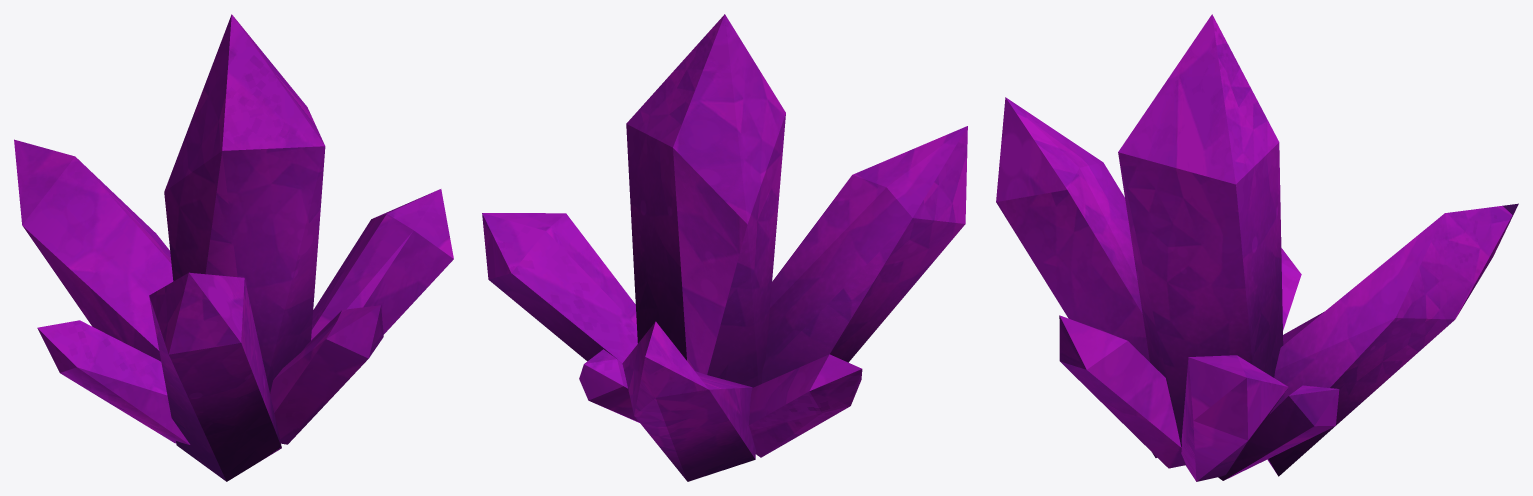
File: P_CLUSTER CRYSTAL.fbx
3 views of the same model, side by side, from view 1: azimuth 30°, elevation 25°; view 2: azimuth 150°, elevation 25°; view 3: azimuth 270°, elevation 25° (orthographic). The views are drawn at different scales.
Visible parts, largest first — view 1: Cluster Crystal_1; view 2: Cluster Crystal_1; view 3: Cluster Crystal_1.
Boxes of the visible parts, x1,y1,x2,y2 form: Cluster Crystal_1: (14, 14, 453, 481); Cluster Crystal_1: (482, 14, 967, 481); Cluster Crystal_1: (996, 14, 1518, 481).
Size of the model in its own units: 373 by 405 by 417.
